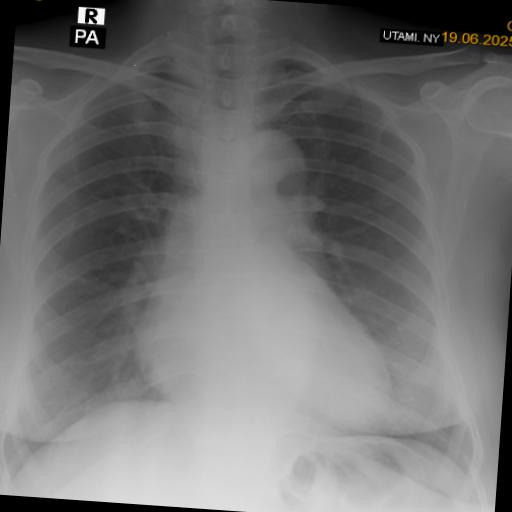kardiomegali: (121, 230, 424, 454)
